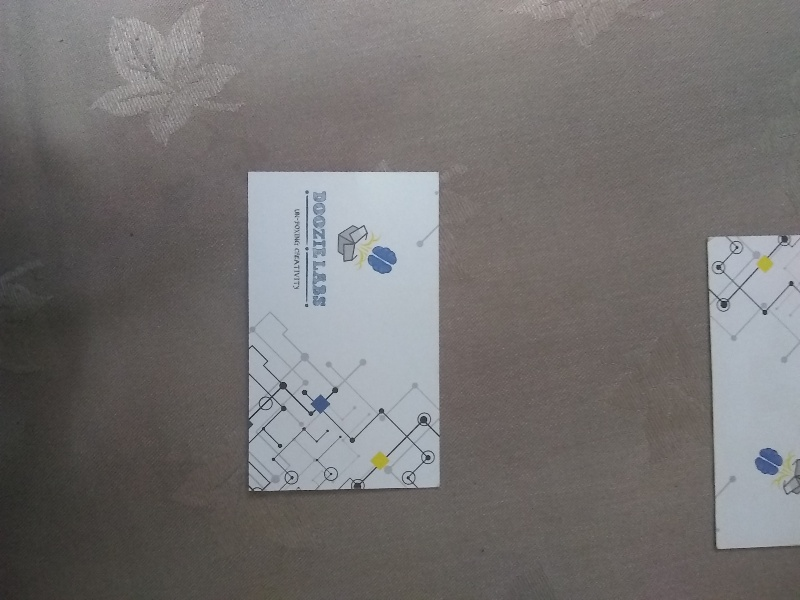back: (241, 164, 443, 493)
